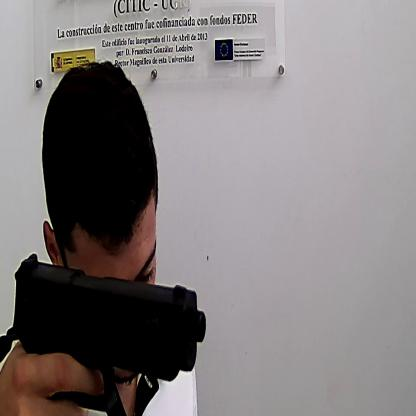gun: (10, 251, 208, 415)
